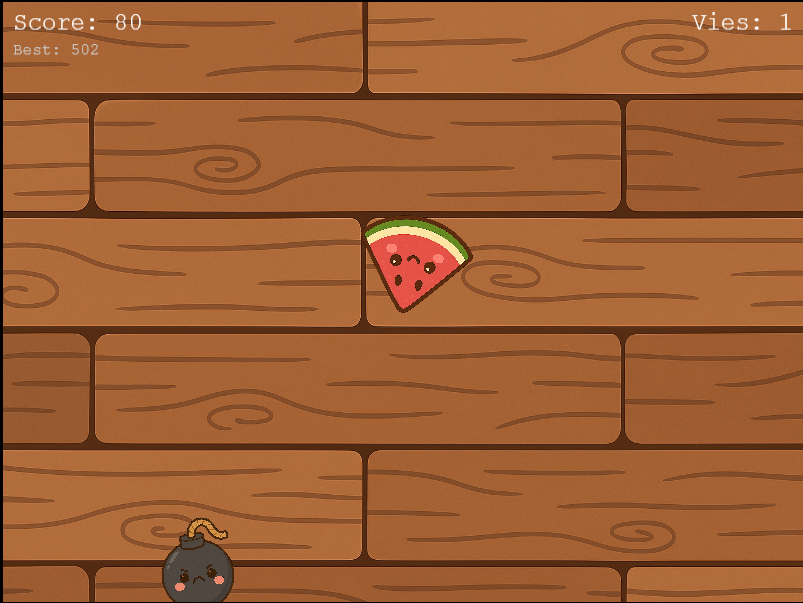bomb: (153, 512, 243, 603)
fruit: (358, 207, 473, 322)
